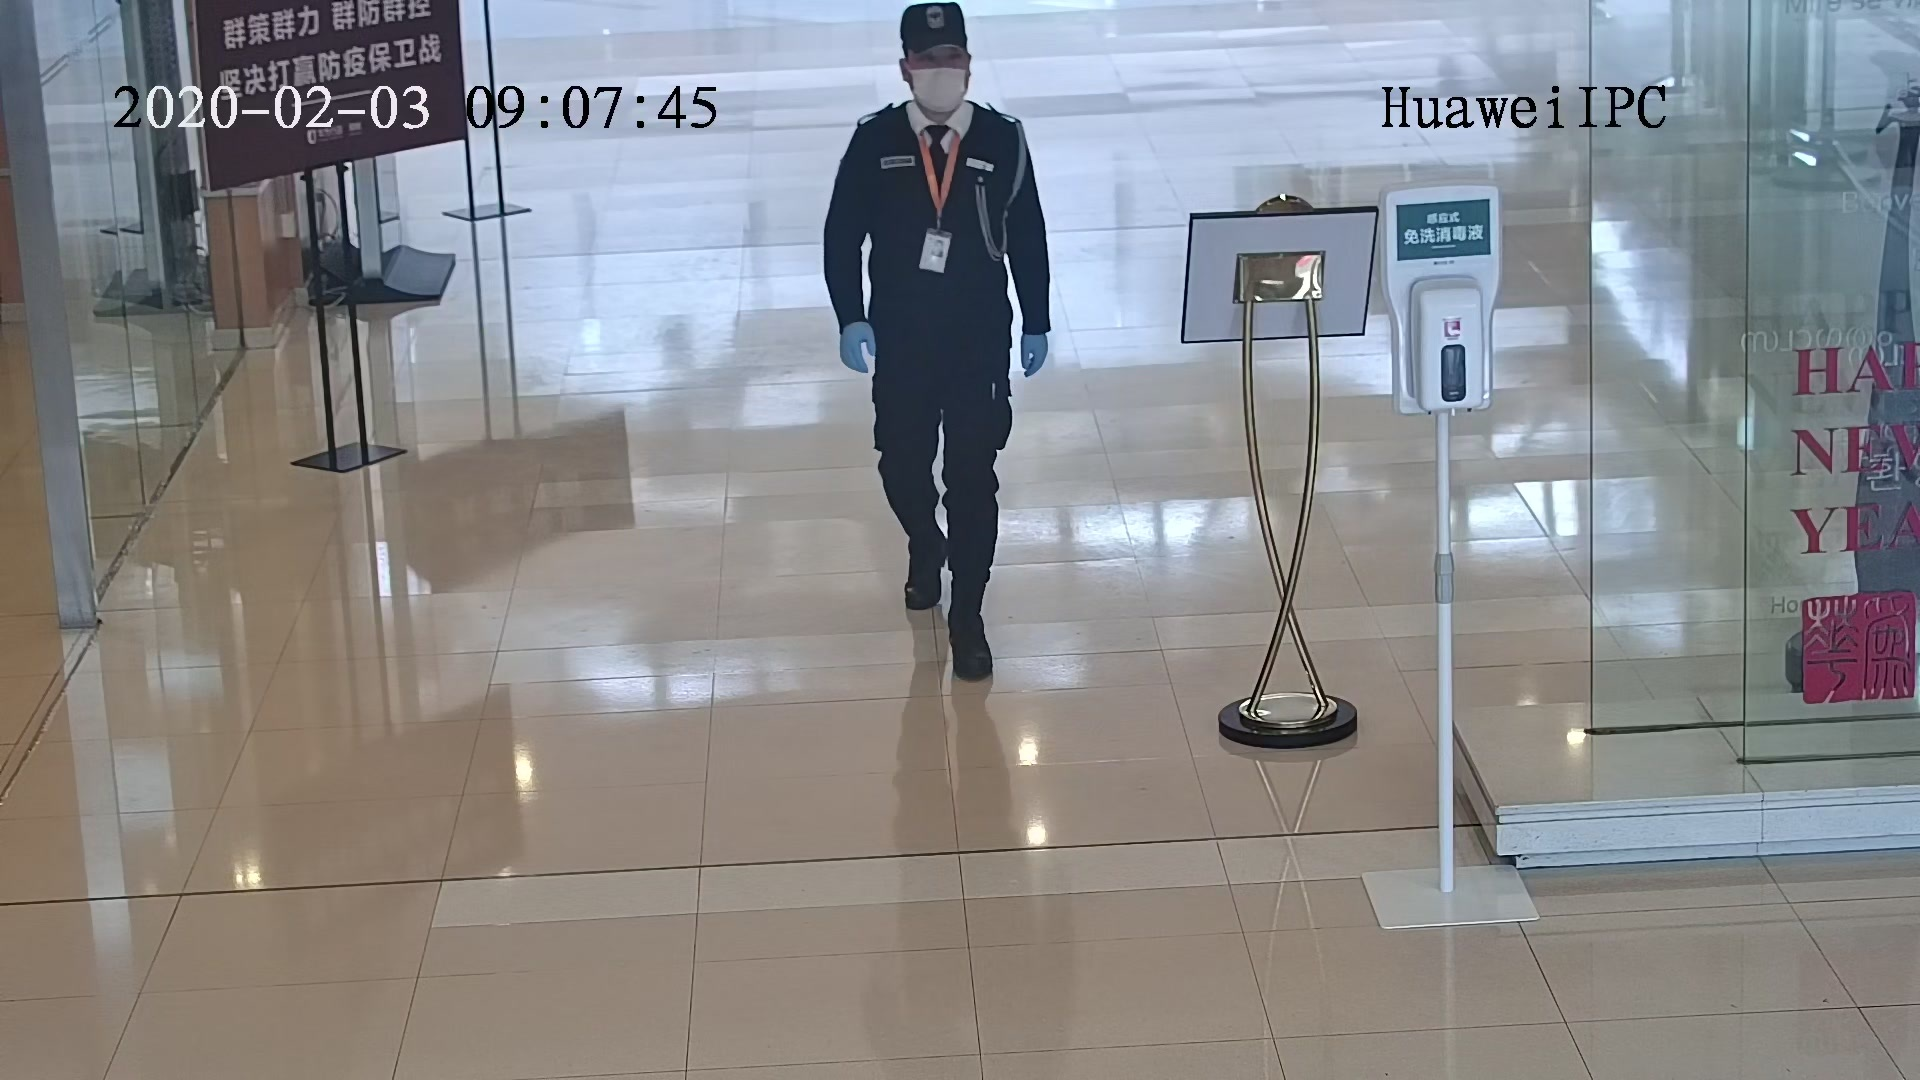face: (905, 27, 971, 112)
mask: (917, 68, 968, 112)
person: (843, 9, 1036, 179)
